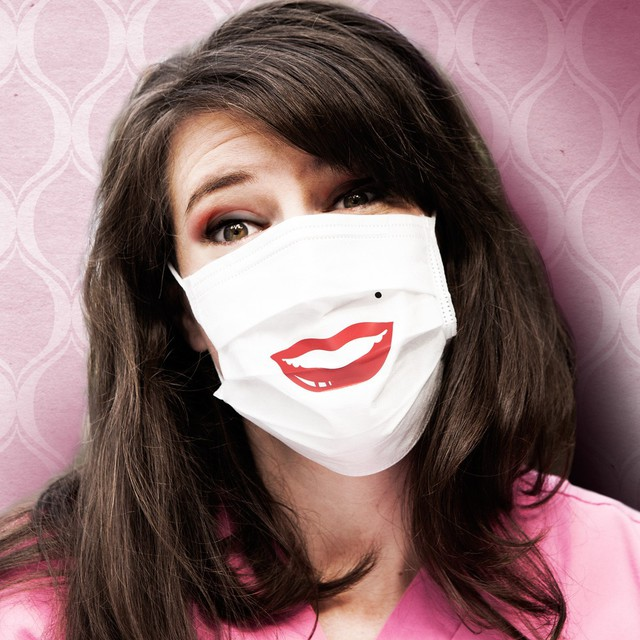mask: (190, 249, 462, 440)
